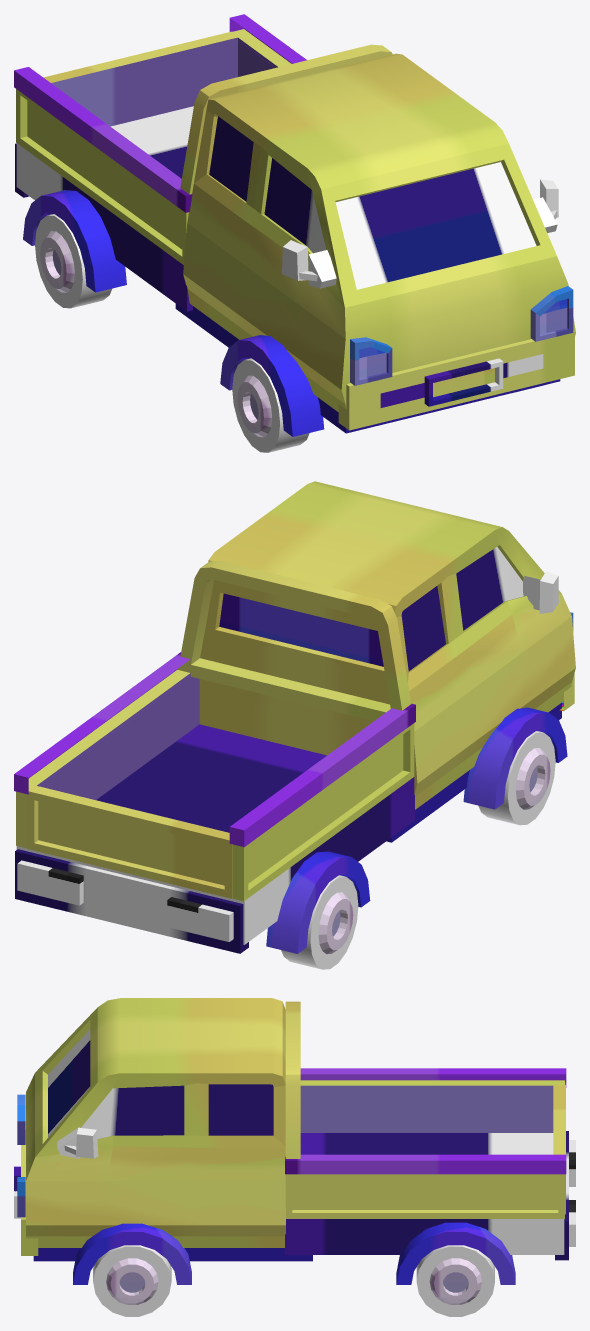
File: Blue_Small_Truck_Open.fbx
3 views of the same model, one above another, from view 1: azimuth 30°, elevation 25°; view 2: azimuth 150°, elevation 25°; view 3: azimuth 270°, elevation 25° (orthographic). The views are drawn at different scales.
Parts seen in each view (by area): view 1: Small_Truck002, Small_Back_Door002; view 2: Small_Truck002, Small_Back_Door002; view 3: Small_Truck002, Small_Back_Door002.
Boxes of the visible parts, bbox=[...] form: Small_Truck002: bbox=[14, 14, 575, 452]; Small_Back_Door002: bbox=[43, 31, 237, 126]; Small_Truck002: bbox=[14, 481, 575, 969]; Small_Back_Door002: bbox=[27, 785, 232, 898]; Small_Truck002: bbox=[14, 998, 575, 1316]; Small_Back_Door002: bbox=[553, 1085, 565, 1214].
Bounding box in the file's own units: 201 × 185 × 417.
